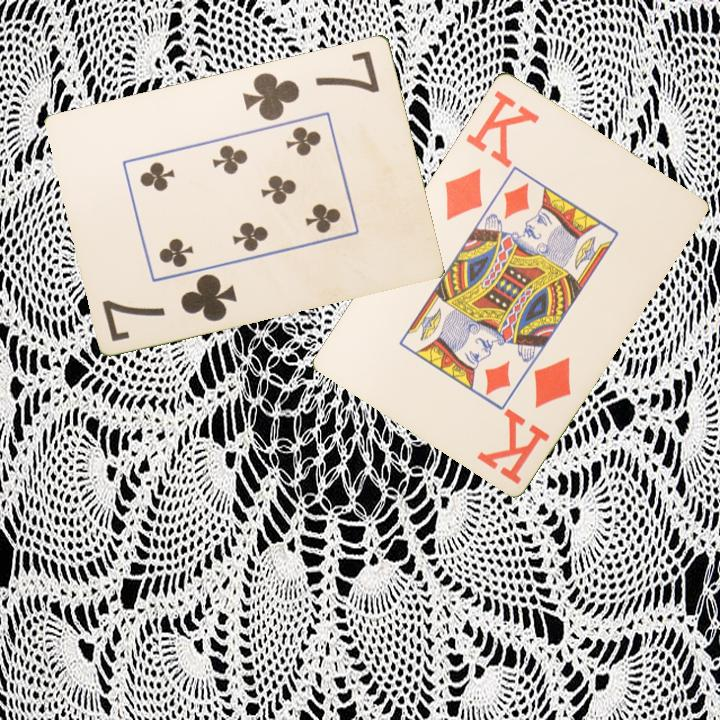7c: (239, 46, 383, 124), (98, 269, 240, 344)
Kd: (440, 86, 543, 223), (474, 352, 574, 487)
